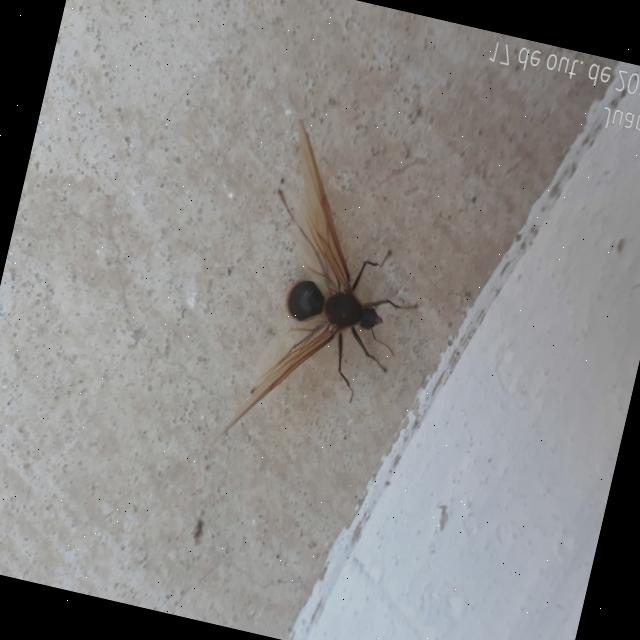Alive-Male-Alate: (214, 114, 454, 479)
